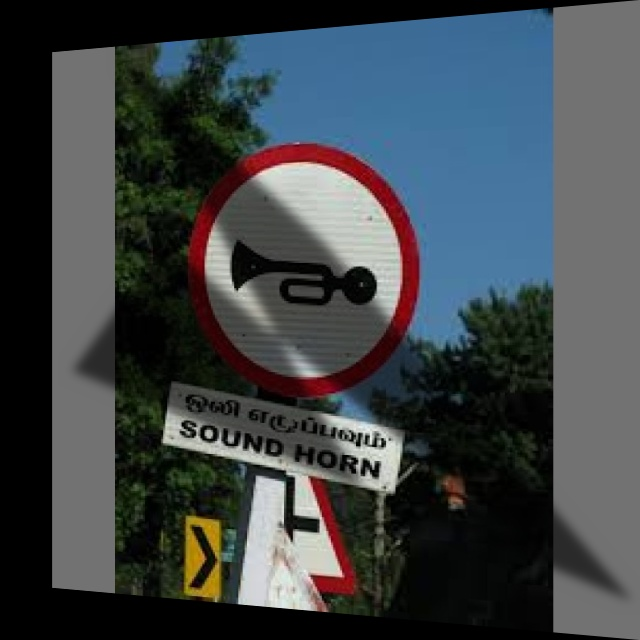Compulsory_Sound_Horn: (192, 137, 419, 391)
